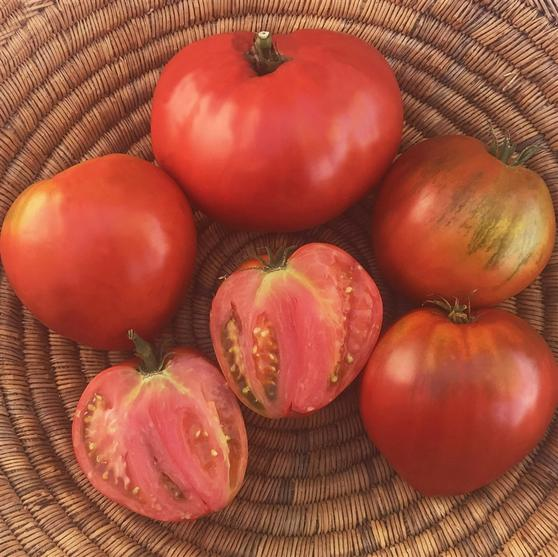tomato: (154, 26, 411, 236), (363, 305, 558, 511), (2, 156, 202, 353), (368, 130, 556, 306)
